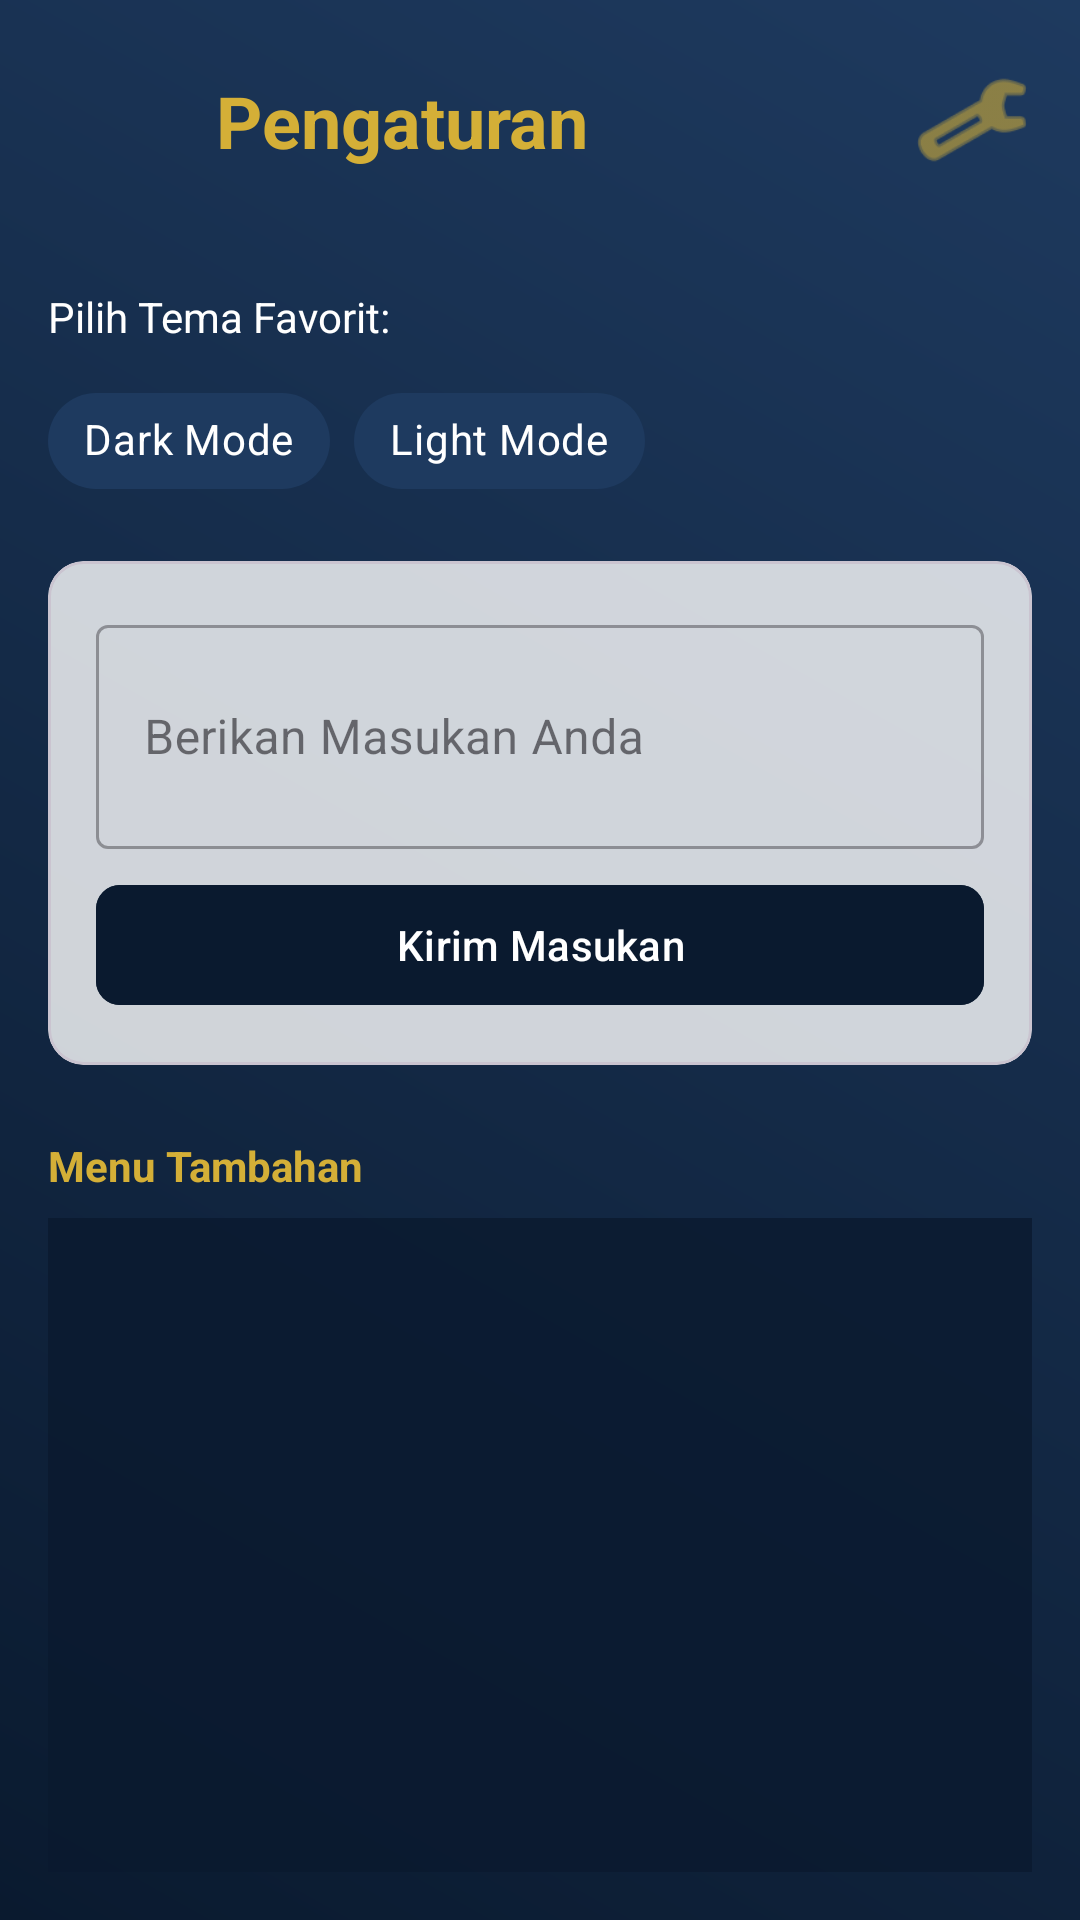

Screen size 1080*1920. Icon name, then its center in pixels as point (x, y):
manage: point (972, 120)
